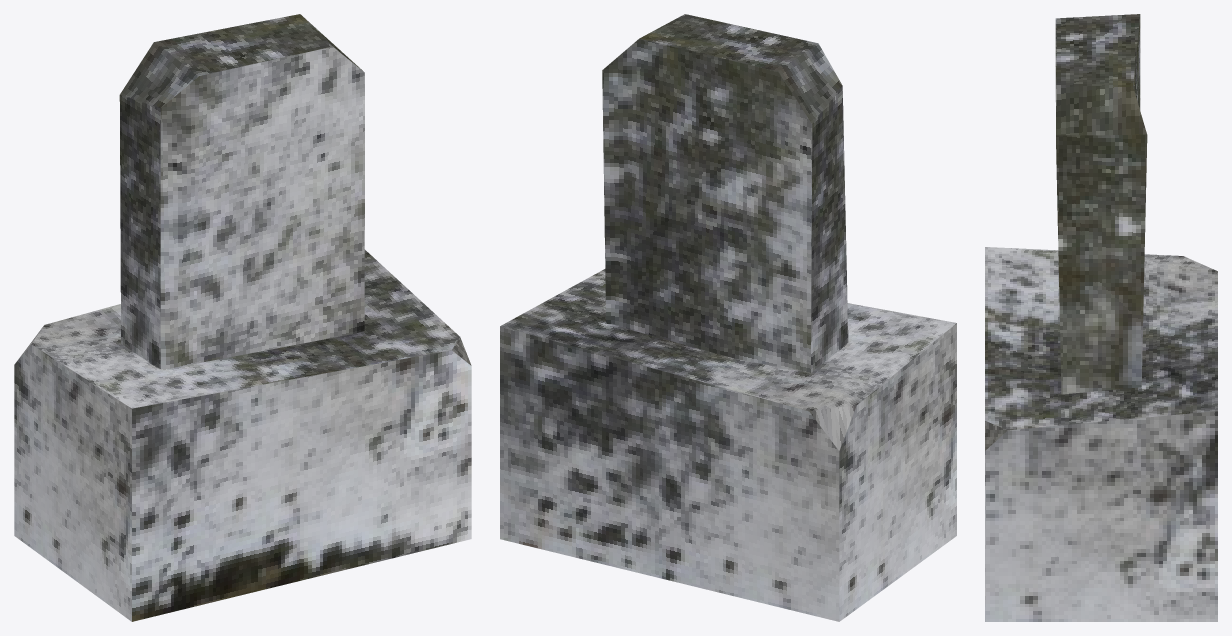
Rendered from tombe.glb.
3 views of the same model, side by side, from view 1: azimuth 30°, elevation 25°; view 2: azimuth 150°, elevation 25°; view 3: azimuth 270°, elevation 25° (orthographic).
Parts seen in each view (by area): view 1: Cube; view 2: Cube; view 3: Cube.
Boxes of the visible parts, <box> form: Cube: <box>14,14,471,621</box>; Cube: <box>500,14,956,621</box>; Cube: <box>985,14,1217,621</box>.
Size of the model in its own units: 0.5 by 0.7 by 0.3.
1 material, 1 textured.
